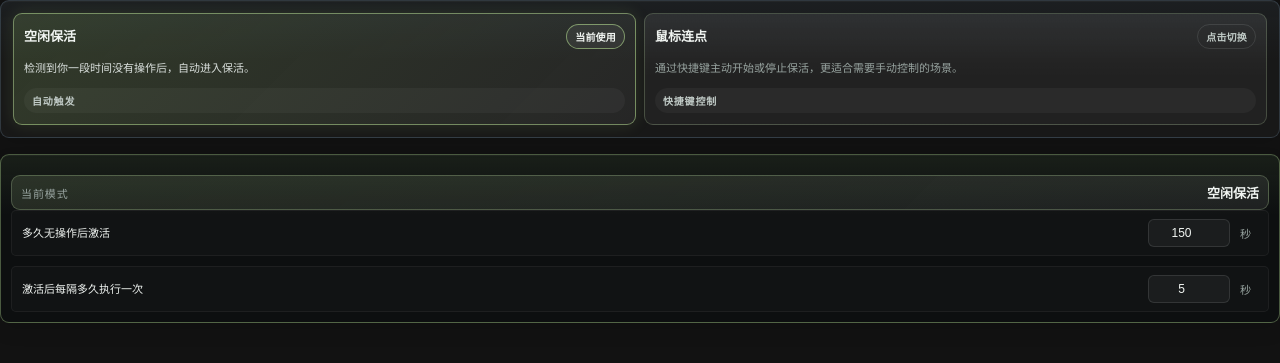
it: PreventSleepSettings › switches to the matching settings block when a mode card is clicked
The width and height of the screenshot is (1280, 363).
Expected: the text "当前模式" is shown, [21, 184, 68, 200]
Expected: the number field labelled "多久无操作后激活" is shown, [1148, 219, 1230, 247]
Click the tab "鼠标连点 点击切换 通过快捷键主动开始或停止保活，更适合需要手动控制的场景。 快捷键控制" at (956, 69), box [644, 13, 1267, 125]
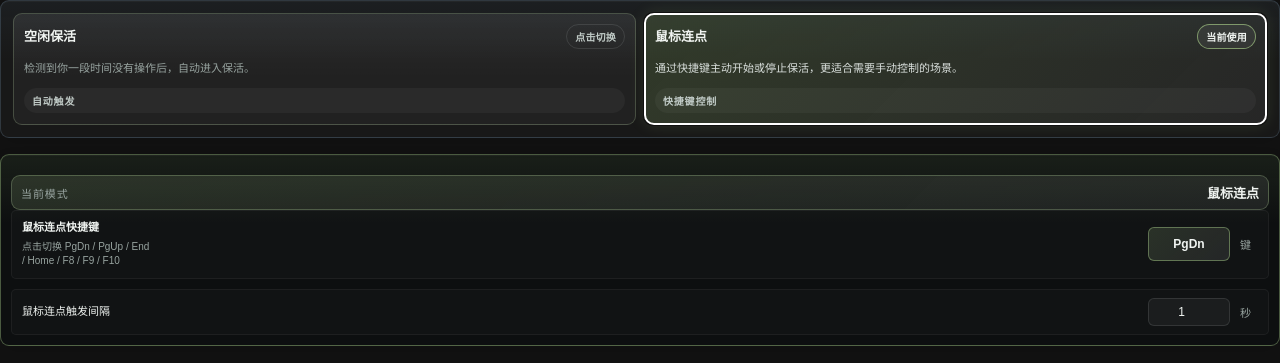
Expected: the text "当前模式" is shown, [21, 184, 68, 200]
Result: the button with aria-label "鼠标连点快捷键" is shown at [1148, 227, 1230, 261]
